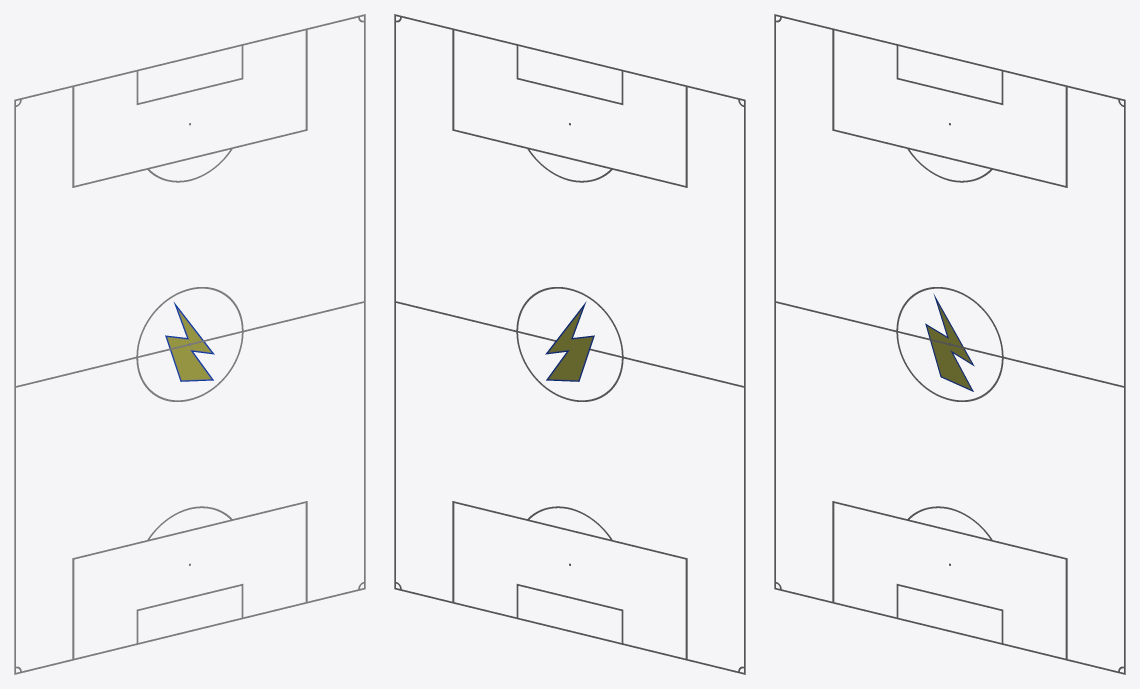
Rendered from SM_000219_grass01_W.fbx.
3 views of the same model, side by side, from view 1: azimuth 30°, elevation 25°; view 2: azimuth 150°, elevation 25°; view 3: azimuth 330°, elevation 25° (orthographic).
Visible parts, largest first — view 1: SM_000219.001; view 2: SM_000219.001; view 3: SM_000219.001.
Part boxes in pixels (x1,y1,x2,y2): SM_000219.001: (14,14,365,674); SM_000219.001: (394,14,745,674); SM_000219.001: (774,14,1125,674).
Bounding box in the file's own units: 31.36 × 49.04 × 0.0028.
